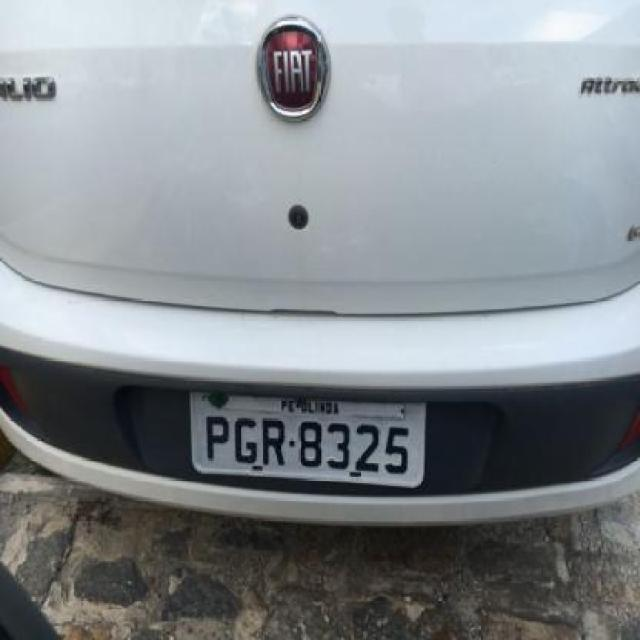old_plate: (182, 384, 429, 490)
